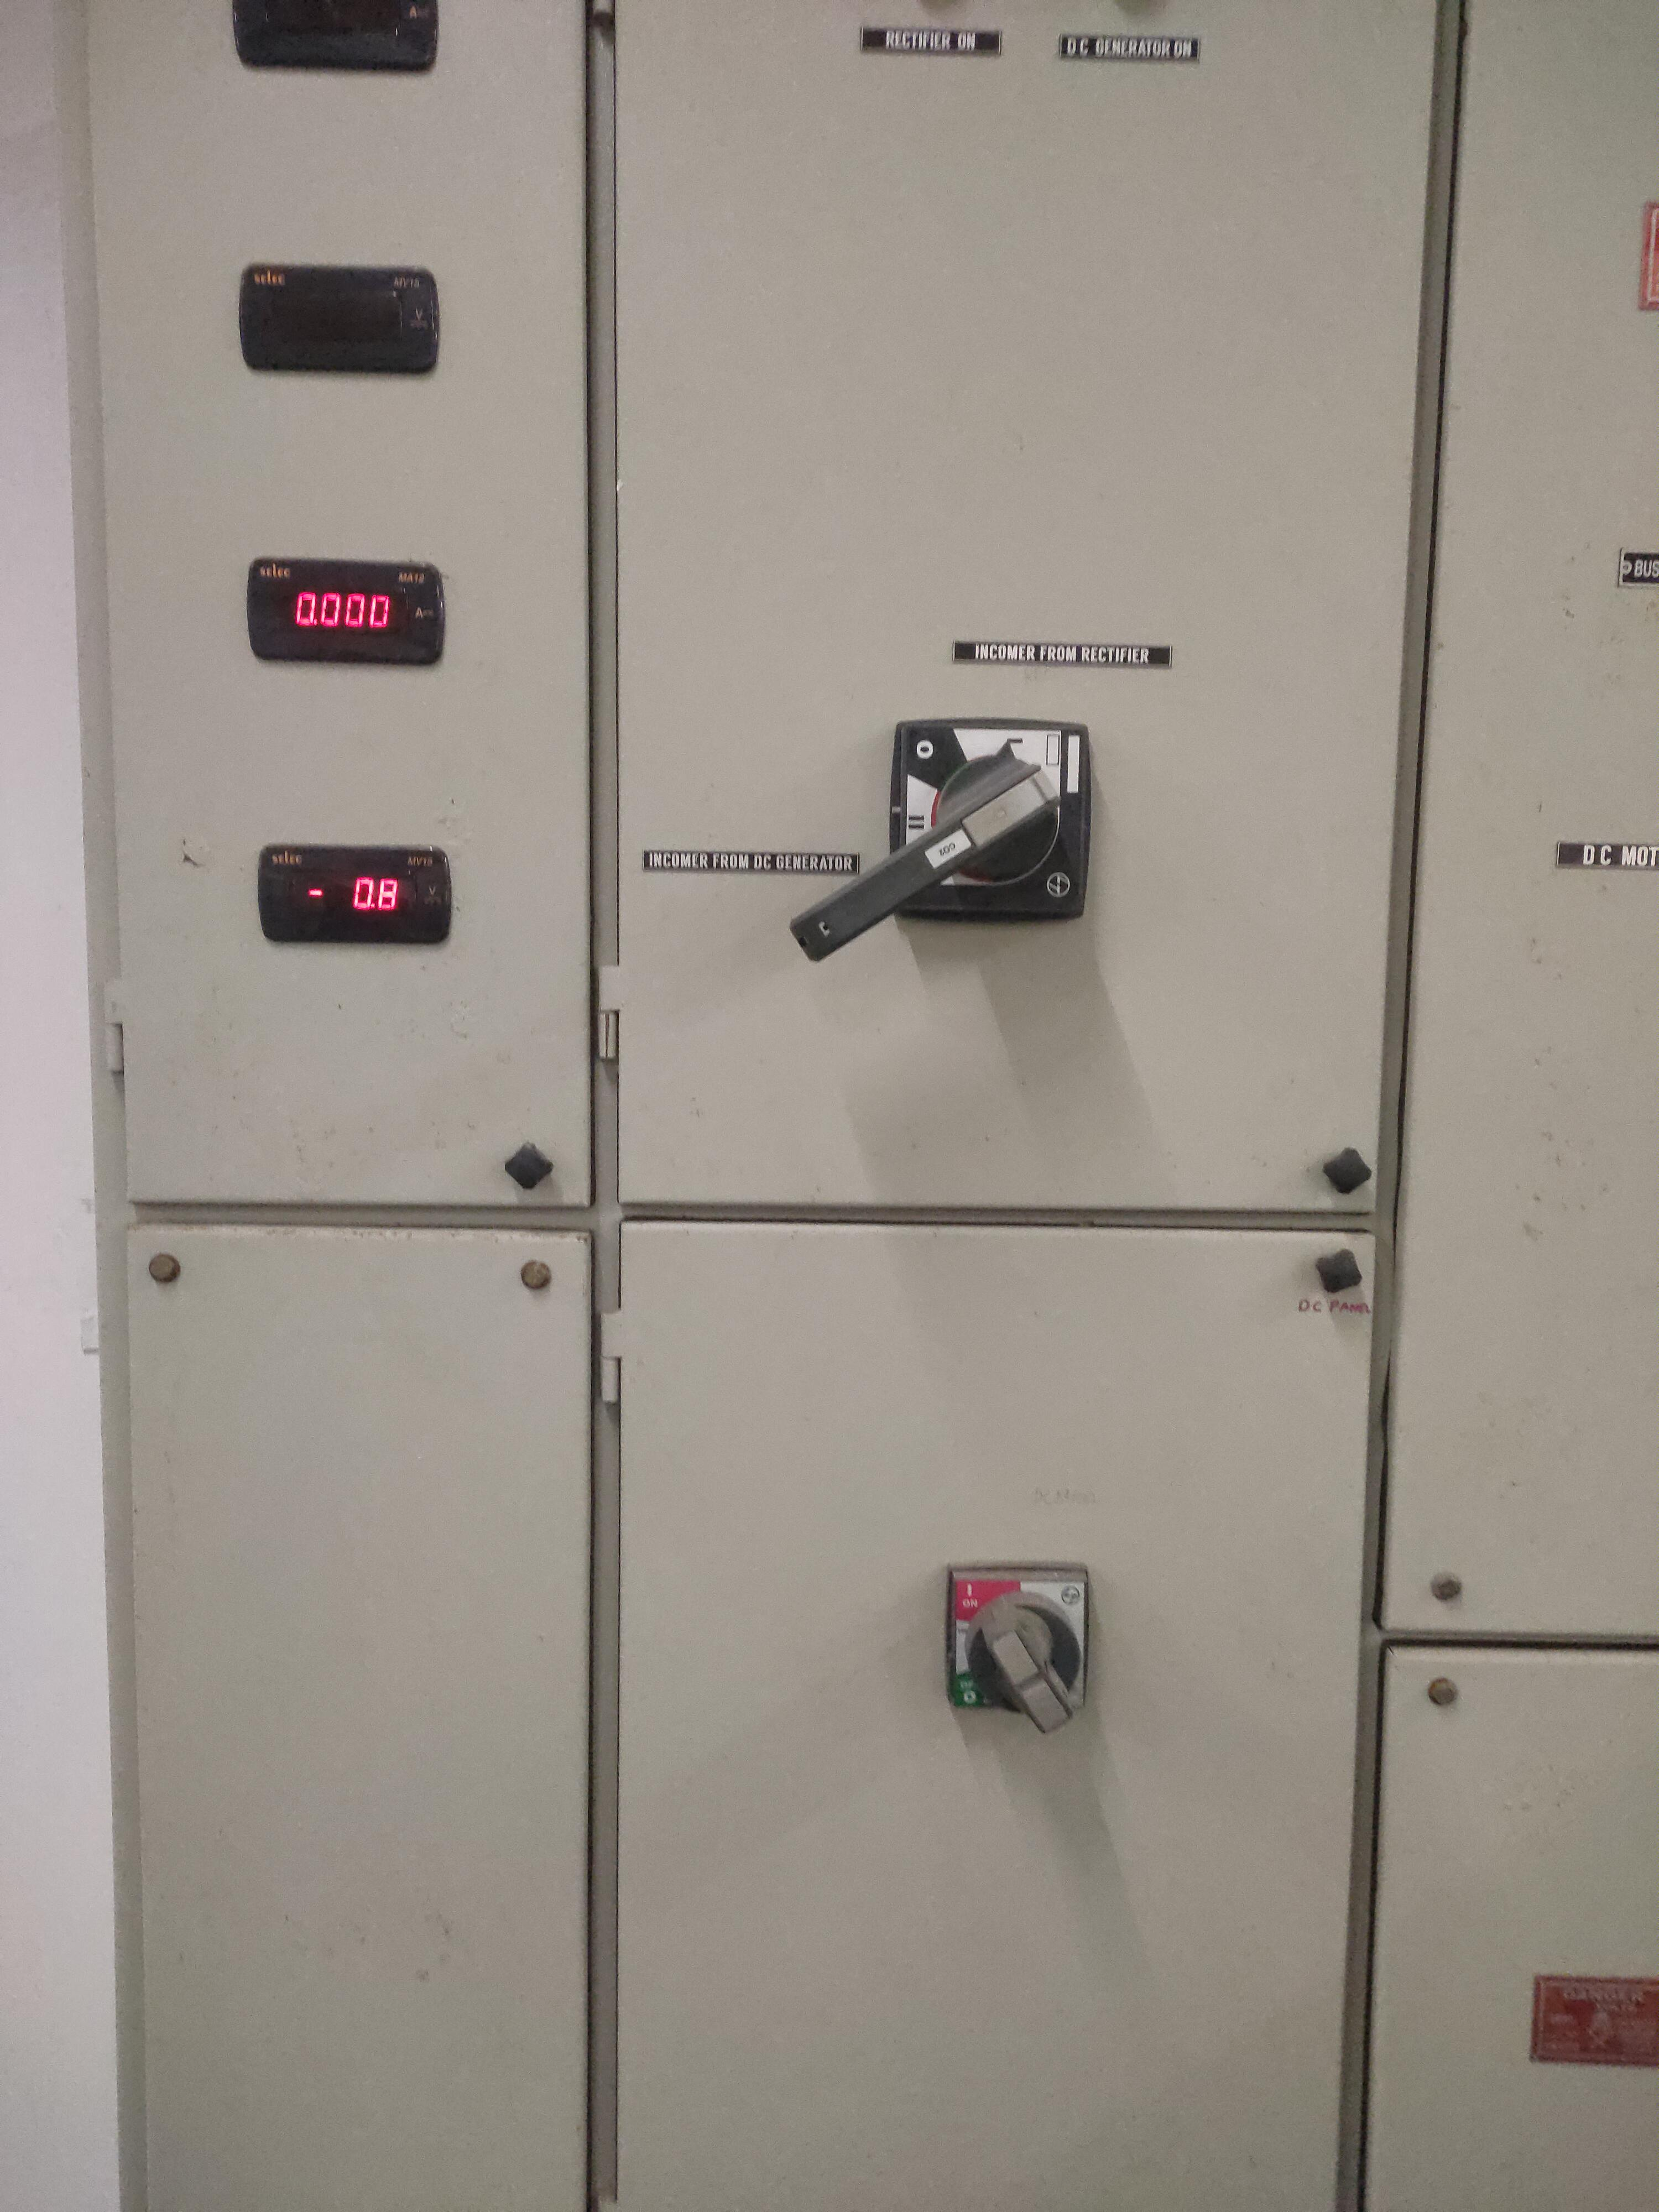Knob 1: (742, 648, 1134, 970)
Knob 2: (922, 1524, 1124, 1754)
Light Indications: (807, 0, 1230, 63)
